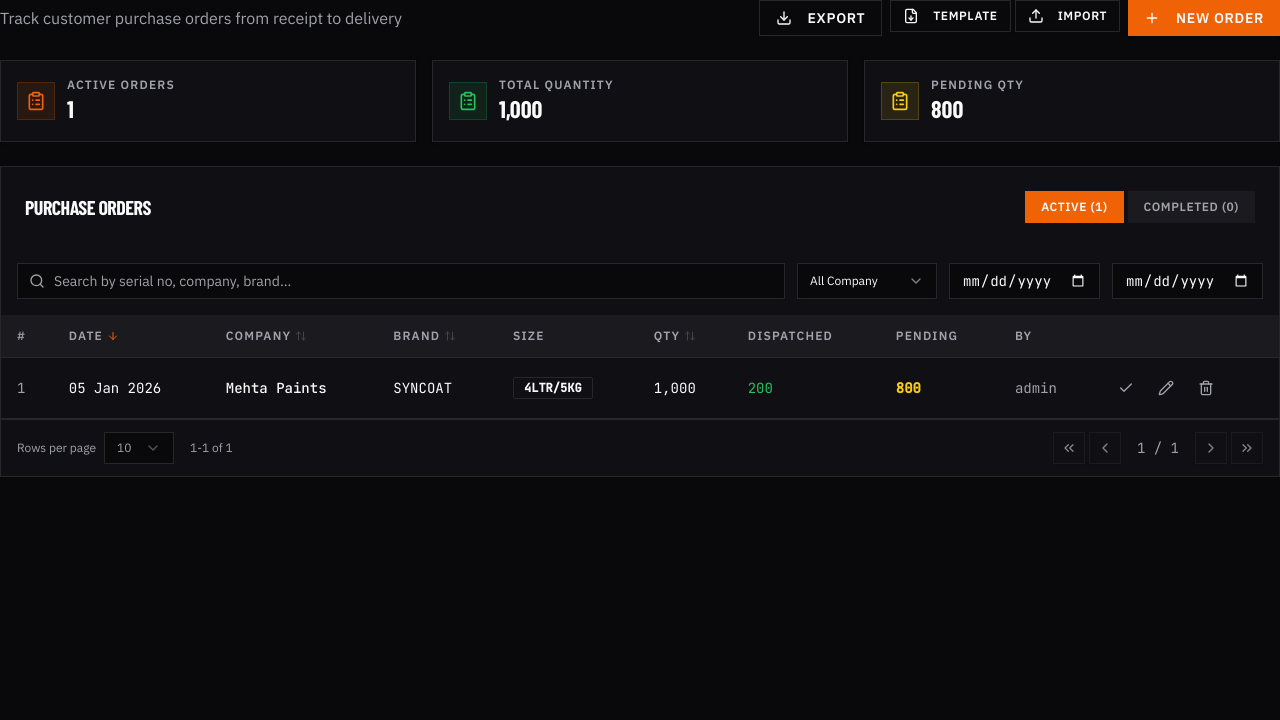
Test: names the missing brand and size when staging a line
Expected: the table with test id "po-table" is shown, [1,315,1279,419]
Click the button with test id "add-po-btn". click: [1204, 18]
box: [1128,0,1279,36]
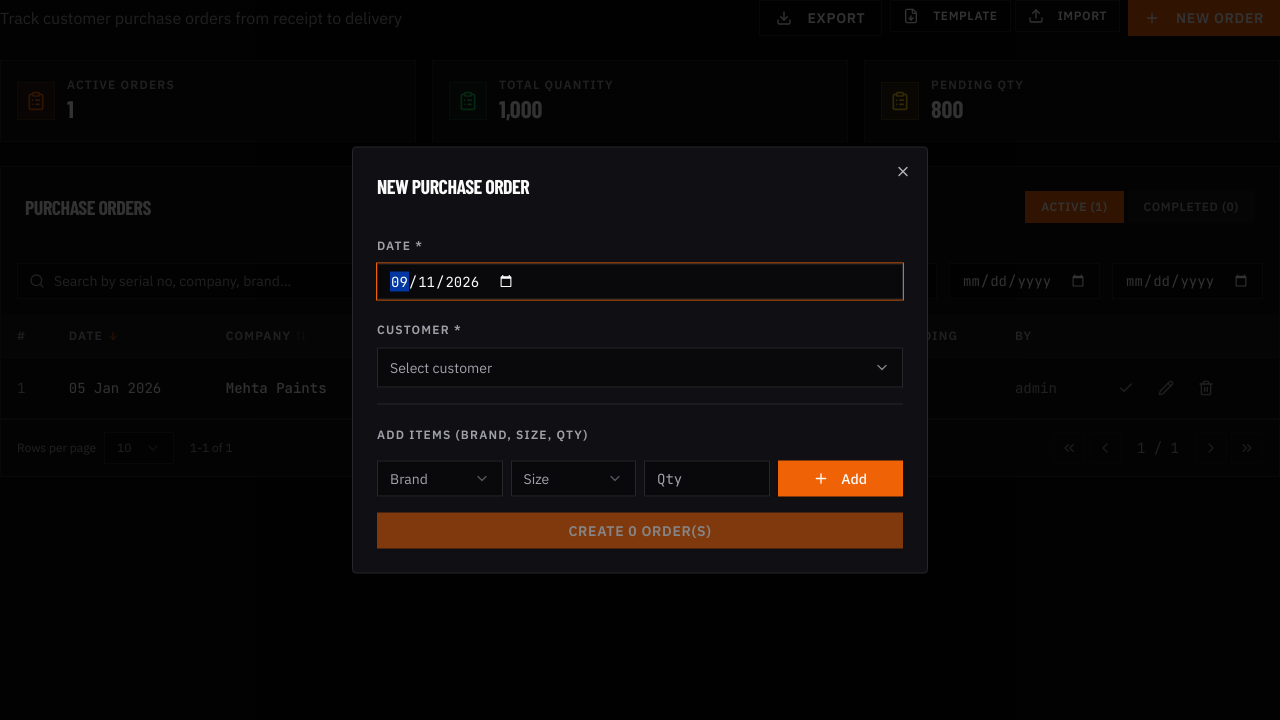
Type "500" into the number field with test id "po-quantity". click: [707, 478]
box: [644,460,770,496]
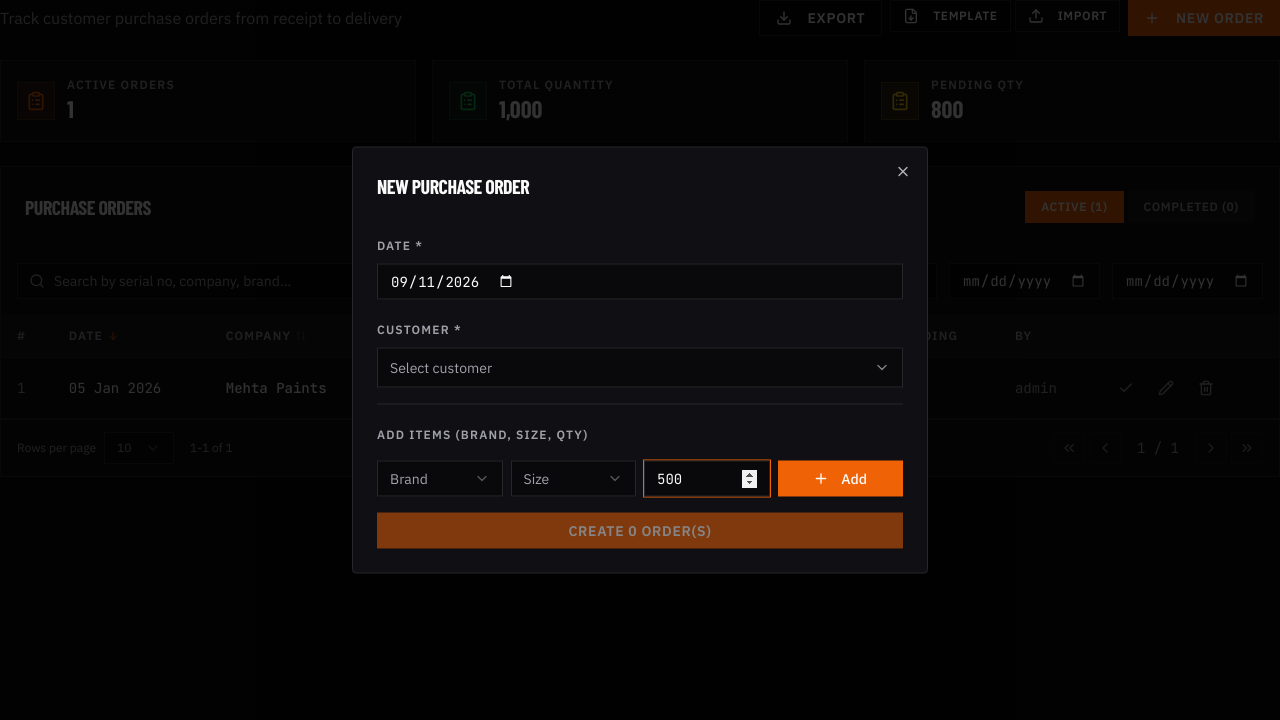
Click the button with test id "add-po-item-btn". click: [840, 478]
box: [778,460,903,496]
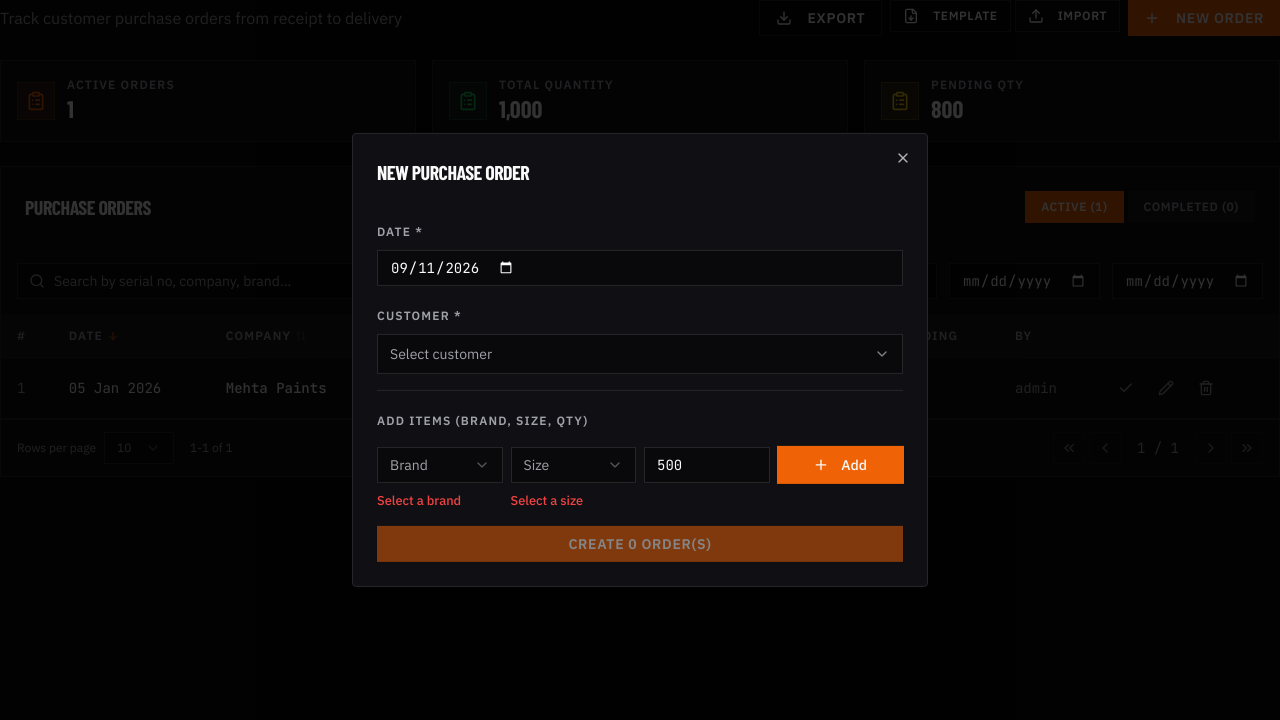
Expected: the text "Select a brand" is shown, [377,492,461,509]
Expected: the text "Select a size" is shown, [510,492,583,509]
